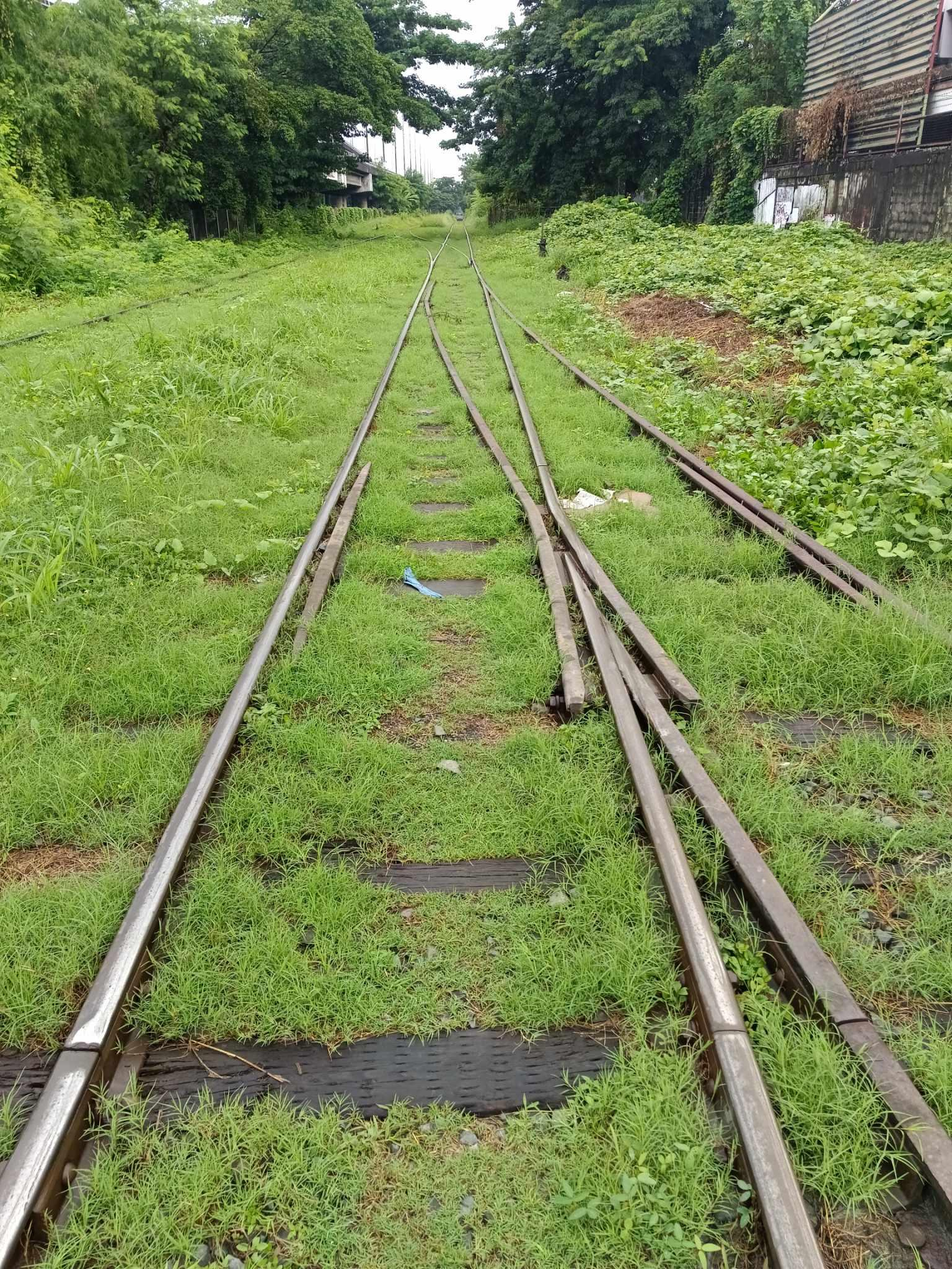railway-gap: (26, 998, 133, 1103), (676, 985, 782, 1084), (797, 973, 902, 1071)
